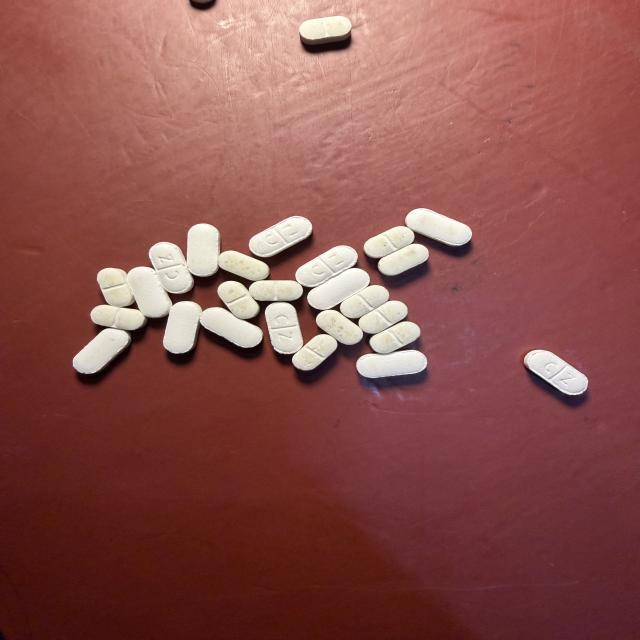pill: (524, 350, 588, 395), (73, 328, 131, 374), (249, 216, 312, 257), (296, 246, 357, 287), (201, 308, 263, 348), (308, 269, 369, 309), (406, 209, 471, 246), (149, 242, 193, 293), (128, 267, 171, 317), (164, 301, 202, 353), (265, 302, 303, 354), (357, 350, 427, 378), (187, 224, 220, 276), (292, 334, 337, 370), (340, 285, 389, 318), (364, 226, 414, 258), (218, 281, 259, 319), (316, 311, 363, 344), (370, 322, 420, 353), (378, 244, 428, 275), (359, 301, 407, 333), (300, 16, 351, 45), (219, 251, 269, 280), (97, 268, 134, 306), (91, 305, 147, 330), (249, 281, 303, 301)
